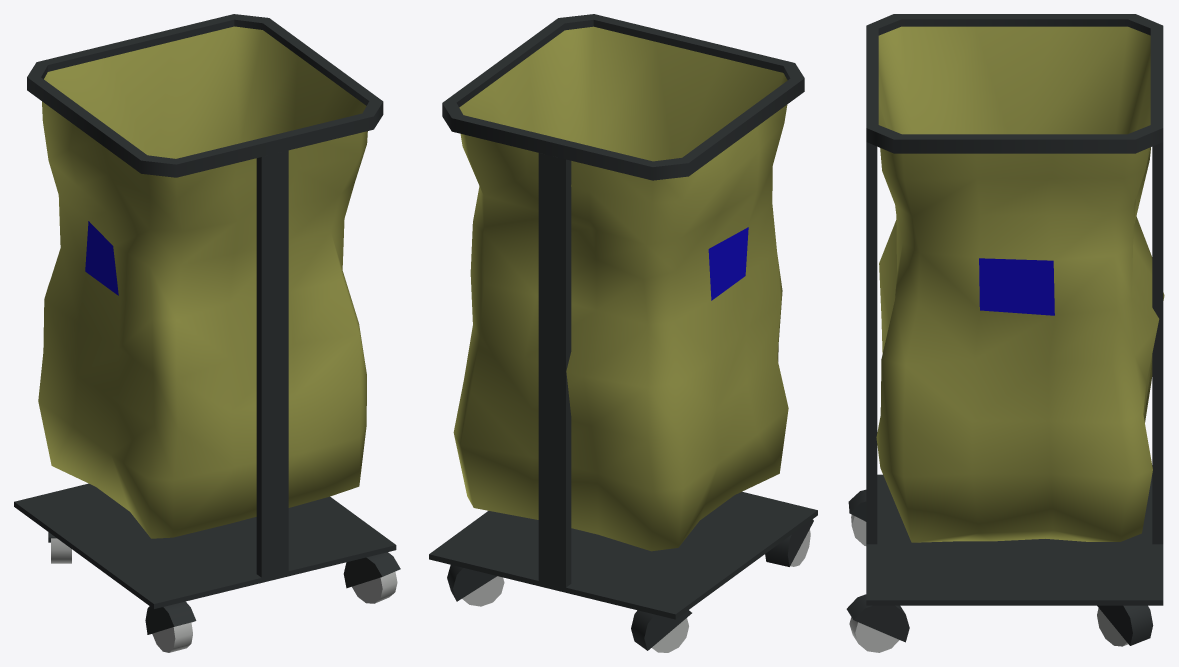
Rendered from Trolley1.FBX.
3 renders of one model, left to right at view 1: azimuth 30°, elevation 25°; view 2: azimuth 150°, elevation 25°; view 3: azimuth 270°, elevation 25°, orthographic. The views are drawn at different scales.
Parts seen in each view (by area): view 1: Object001, Stamp; view 2: Object001, Stamp; view 3: Object001, Stamp.
Boxes of the visible parts, bbox=[...] form: Object001: bbox=[14, 14, 400, 652]; Stamp: bbox=[85, 221, 118, 295]; Object001: bbox=[429, 14, 817, 652]; Stamp: bbox=[708, 227, 748, 300]; Object001: bbox=[846, 14, 1164, 652]; Stamp: bbox=[979, 258, 1054, 315].
Size of the model in its own units: 19.69 by 37.9 by 21.08.
